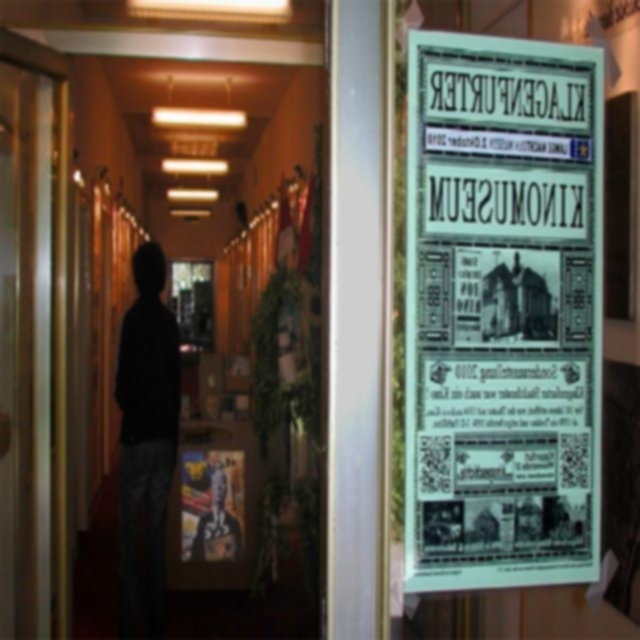qr-code: (421, 436, 451, 492), (560, 433, 589, 488)
